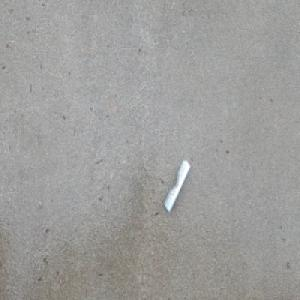ClampPart: (163, 158, 190, 213)
